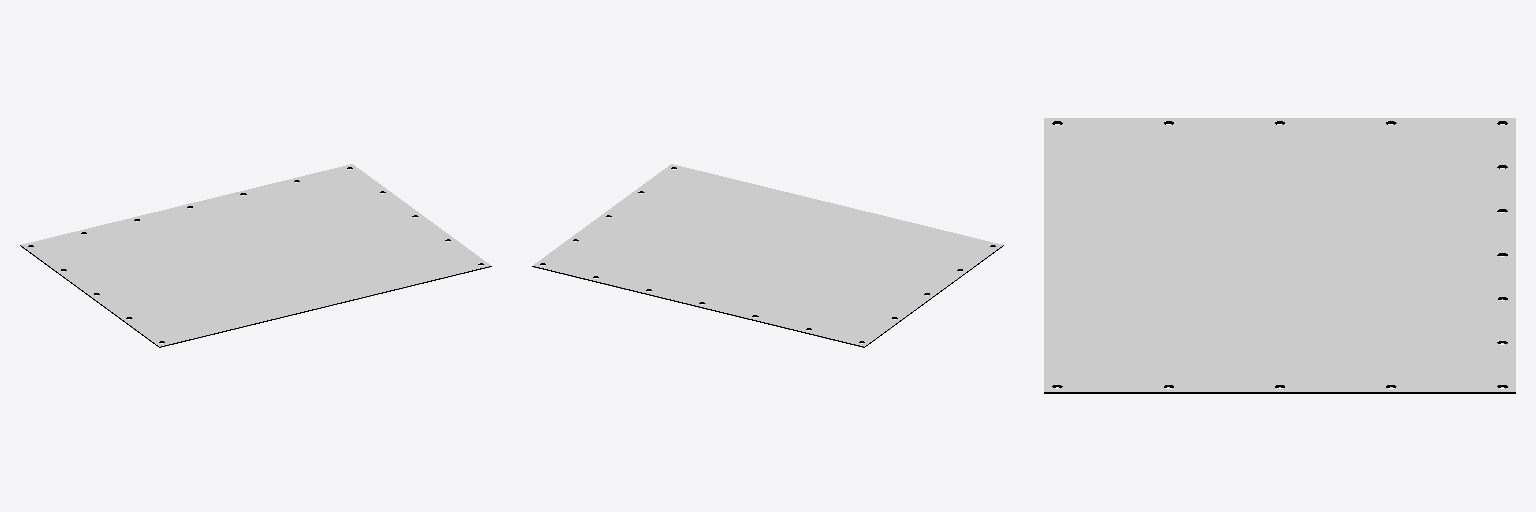
URDF robot description (item_plate):
<?xml version="1.0"?>
<robot name="item_plate">
  <material name="black">
    <color rgba="0.0 0.0 0.0 1.0"/>
  </material>
  <material name="white">
    <color rgba="0.9 0.9 0.9 1.0"/>
  </material>

  <link name="base_link">
    <visual>
      <geometry>
        <mesh filename="assets/middle.stl"/>
      </geometry>
      <material name="black"/>
    </visual>
  </link>
  <link name="top">
    <visual>
      <geometry>
        <mesh filename="assets/top.stl"/>
      </geometry>
      <material name="white"/>
    </visual>
  </link>
  <link name="bottom">
    <visual>
      <geometry>
        <mesh filename="assets/bottom.stl"/>
      </geometry>
      <material name="white"/>
    </visual>
  </link>
  <joint name="middle_to_top" type="fixed">
    <parent link="base_link"/>
    <child link="top"/>
  </joint>
  <joint name="middle_to_bottom" type="fixed">
    <parent link="base_link"/>
    <child link="bottom"/>
  </joint>
</robot>

--- Facts derived from the render (not from the file) ---
The picture shows the robot from 3 angles, left to right: view 1: azimuth 30°, elevation 25°; view 2: azimuth 150°, elevation 25°; view 3: azimuth 270°, elevation 25°; orthographic projection.
Model item_plate with 3 links and 2 joints (2 fixed), rooted at base_link, posed every joint at zero.
Links seen in each view (by area): view 1: top, base_link; view 2: top, base_link; view 3: top, base_link.
Link boxes in pixels (x1=…): top: x1=21, y1=164, x2=490, y2=346; base_link: x1=20, y1=167, x2=491, y2=347; top: x1=533, y1=164, x2=1002, y2=346; base_link: x1=532, y1=167, x2=1003, y2=347; top: x1=1044, y1=118, x2=1515, y2=391; base_link: x1=1044, y1=121, x2=1515, y2=393.
Size in the robot's own frame: 1 by 0.725 by 0.004 metres.
3 mesh visuals loaded from 3 distinct referenced files (3 binary STL).